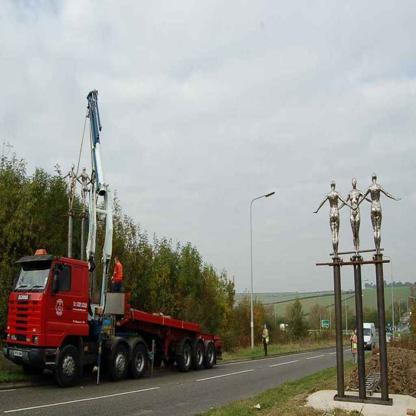fire-truck: (2, 201, 275, 398)
